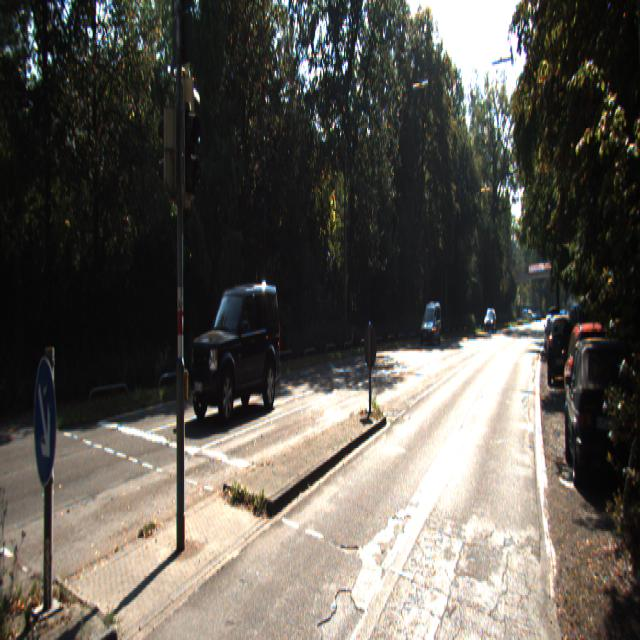Car: (186, 279, 284, 432), (561, 331, 639, 504), (560, 317, 622, 446), (421, 303, 444, 351)
